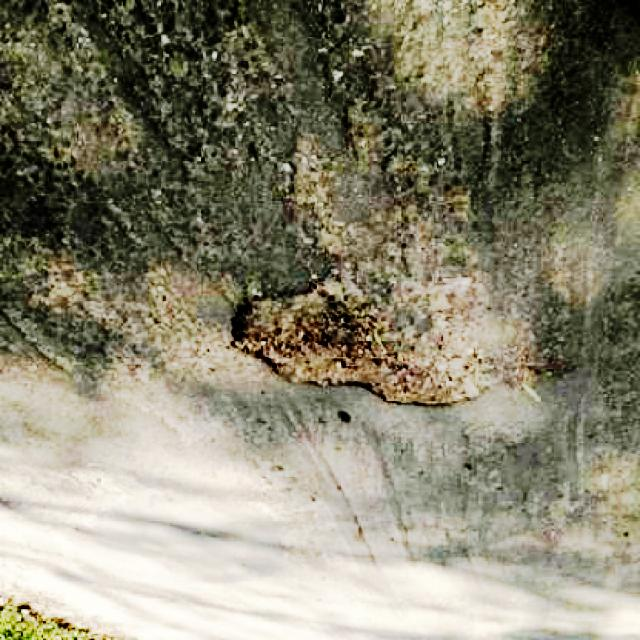pothole: (231, 259, 491, 406), (323, 60, 465, 217), (285, 123, 366, 259), (6, 226, 94, 319), (194, 20, 258, 126)
